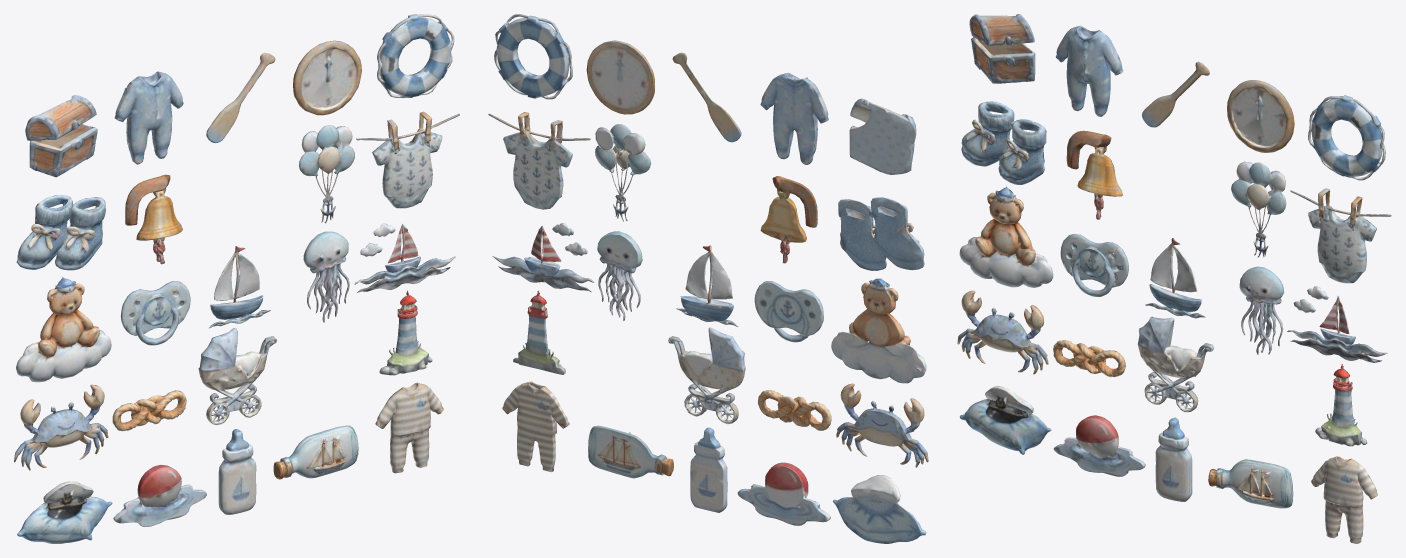
The picture shows the model from 3 angles, left to right: view 1: azimuth 30°, elevation 25°; view 2: azimuth 150°, elevation 25°; view 3: azimuth 330°, elevation 25°; orthographic projection. The views are drawn at different scales.
Visible parts, largest first — view 1: Mesh 21, Mesh 2, Mesh 4, Mesh 11, Mesh 5, Mesh 25, Mesh 22, Mesh 8, Mesh 3, Mesh 1, Mesh 26, Mesh 7 (+10 smaller); view 2: Mesh 21, Mesh 2, Mesh 4, Mesh 25, Mesh 22, Mesh 11, Mesh 8, Mesh 3, Mesh 5, Mesh 1, Mesh 26, Mesh 7 (+10 smaller); view 3: Mesh 21, Mesh 2, Mesh 4, Mesh 25, Mesh 22, Mesh 11, Mesh 5, Mesh 8, Mesh 3, Mesh 1, Mesh 26, Mesh 7 (+10 smaller).
Boxes of the visible parts, left/top/right/bottom form: Mesh 21: left=293, top=40, right=455, bottom=292; Mesh 2: left=16, top=277, right=111, bottom=382; Mesh 4: left=16, top=195, right=105, bottom=270; Mesh 11: left=198, top=327, right=276, bottom=425; Mesh 5: left=25, top=95, right=97, bottom=177; Mesh 25: left=377, top=14, right=454, bottom=98; Mesh 22: left=356, top=111, right=459, bottom=208; Mesh 8: left=114, top=71, right=183, bottom=164; Mesh 3: left=17, top=481, right=112, bottom=543; Mesh 1: left=14, top=384, right=108, bottom=470; Mesh 26: left=375, top=382, right=443, bottom=473; Mesh 7: left=113, top=465, right=206, bottom=526; Mesh 21: left=492, top=40, right=654, bottom=292; Mesh 2: left=831, top=278, right=926, bottom=383; Mesh 4: left=838, top=197, right=924, bottom=270; Mesh 25: left=494, top=14, right=572, bottom=99; Mesh 22: left=488, top=112, right=590, bottom=209; Mesh 11: left=668, top=327, right=745, bottom=424; Mesh 8: left=760, top=72, right=828, bottom=164; Mesh 3: left=833, top=475, right=926, bottom=543; Mesh 5: left=849, top=98, right=916, bottom=174; Mesh 1: left=836, top=383, right=928, bottom=467; Mesh 26: left=502, top=381, right=569, bottom=472; Mesh 7: left=737, top=462, right=830, bottom=525; Mesh 21: left=1227, top=80, right=1387, bottom=362; Mesh 2: left=959, top=186, right=1053, bottom=287; Mesh 4: left=961, top=101, right=1046, bottom=184; Mesh 25: left=1308, top=95, right=1385, bottom=180; Mesh 22: left=1290, top=188, right=1391, bottom=283; Mesh 11: left=1137, top=317, right=1213, bottom=412; Mesh 5: left=969, top=14, right=1035, bottom=83; Mesh 8: left=1055, top=25, right=1123, bottom=116; Mesh 3: left=960, top=386, right=1051, bottom=454; Mesh 1: left=957, top=290, right=1048, bottom=374; Mesh 26: left=1311, top=456, right=1377, bottom=543; Mesh 7: left=1053, top=415, right=1145, bottom=476.
Bounding box in the file's own units: 1.9 × 1.87 × 0.0774.
22 materials, 22 textured.
